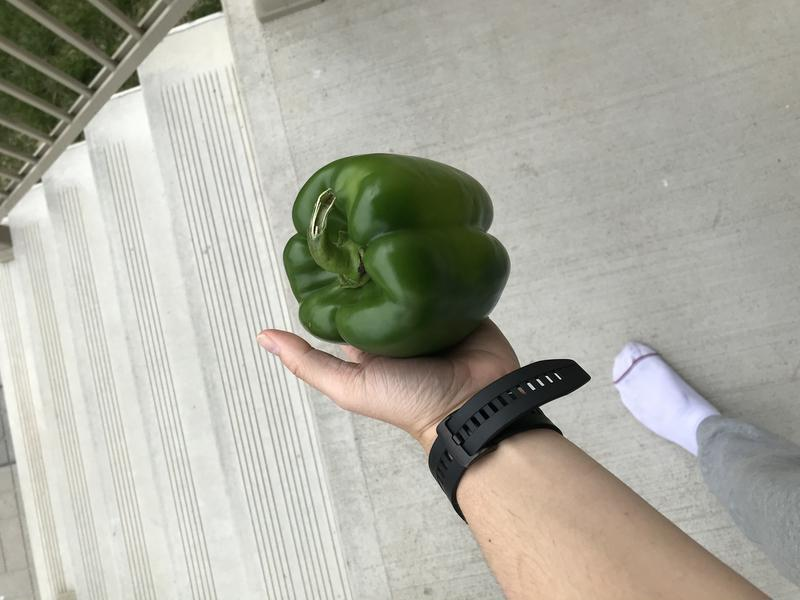green_pepper: (279, 147, 521, 362)
